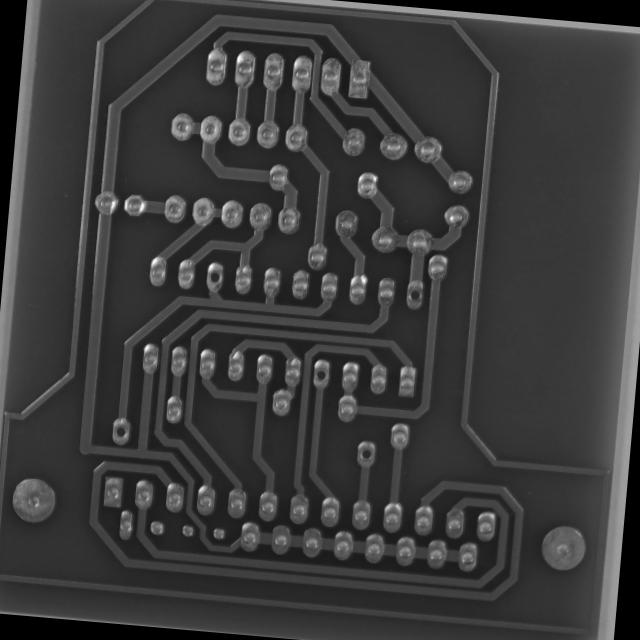missing_hole: (108, 419, 134, 444), (402, 280, 426, 306), (204, 265, 224, 289), (357, 442, 376, 466), (310, 365, 330, 386)
